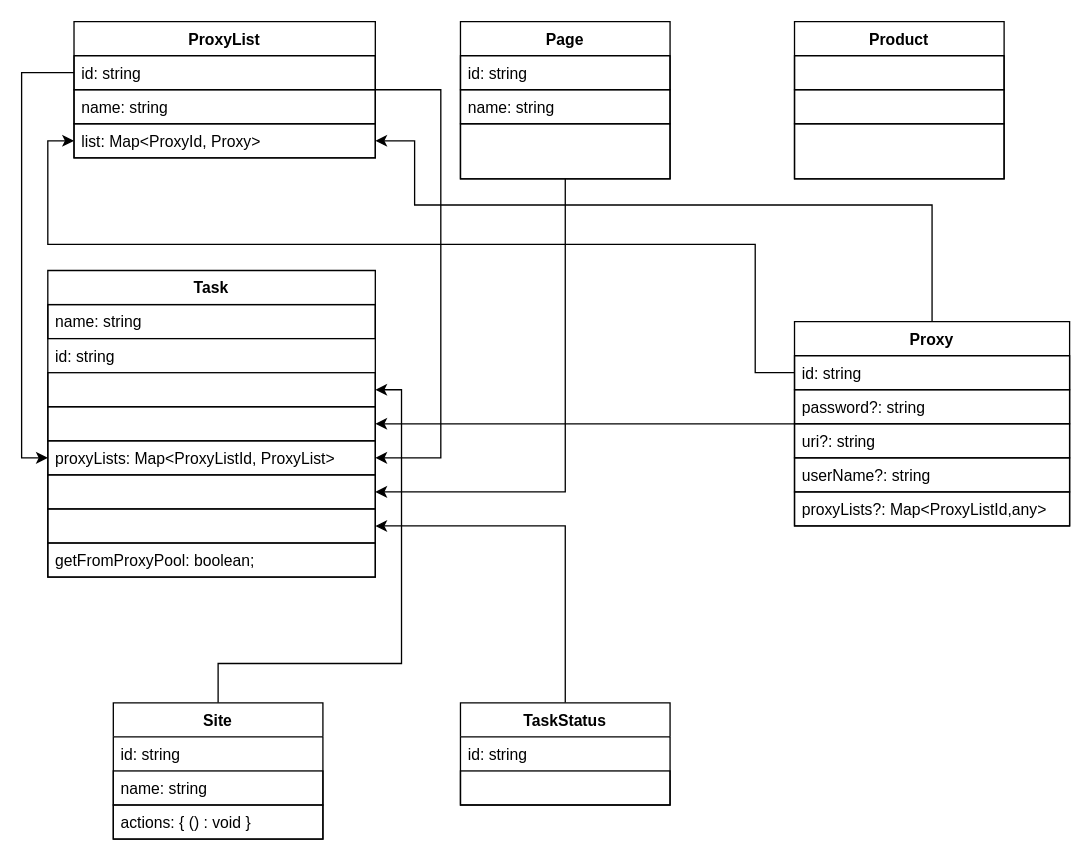
Image size: 1091x861. Some labels were removed from this diagram. Each missing label, with the centre of its shape:
"page: pupeteer.Page" belongs at point (564, 150).
"page?: Page" belongs at point (211, 491).
"proxy?: Proxy" belongs at point (211, 423).
"site: Site" belongs at point (211, 389).
"status: TaskStatus" belongs at point (211, 525).
"status?: string;" belongs at point (564, 787).
